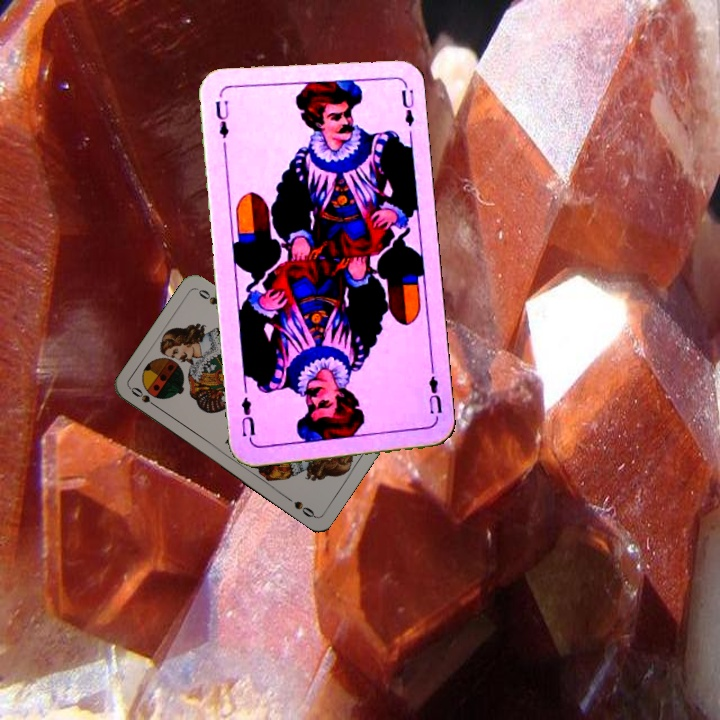EU: (424, 365, 445, 424), (211, 93, 232, 141)
SO: (127, 383, 163, 412)
